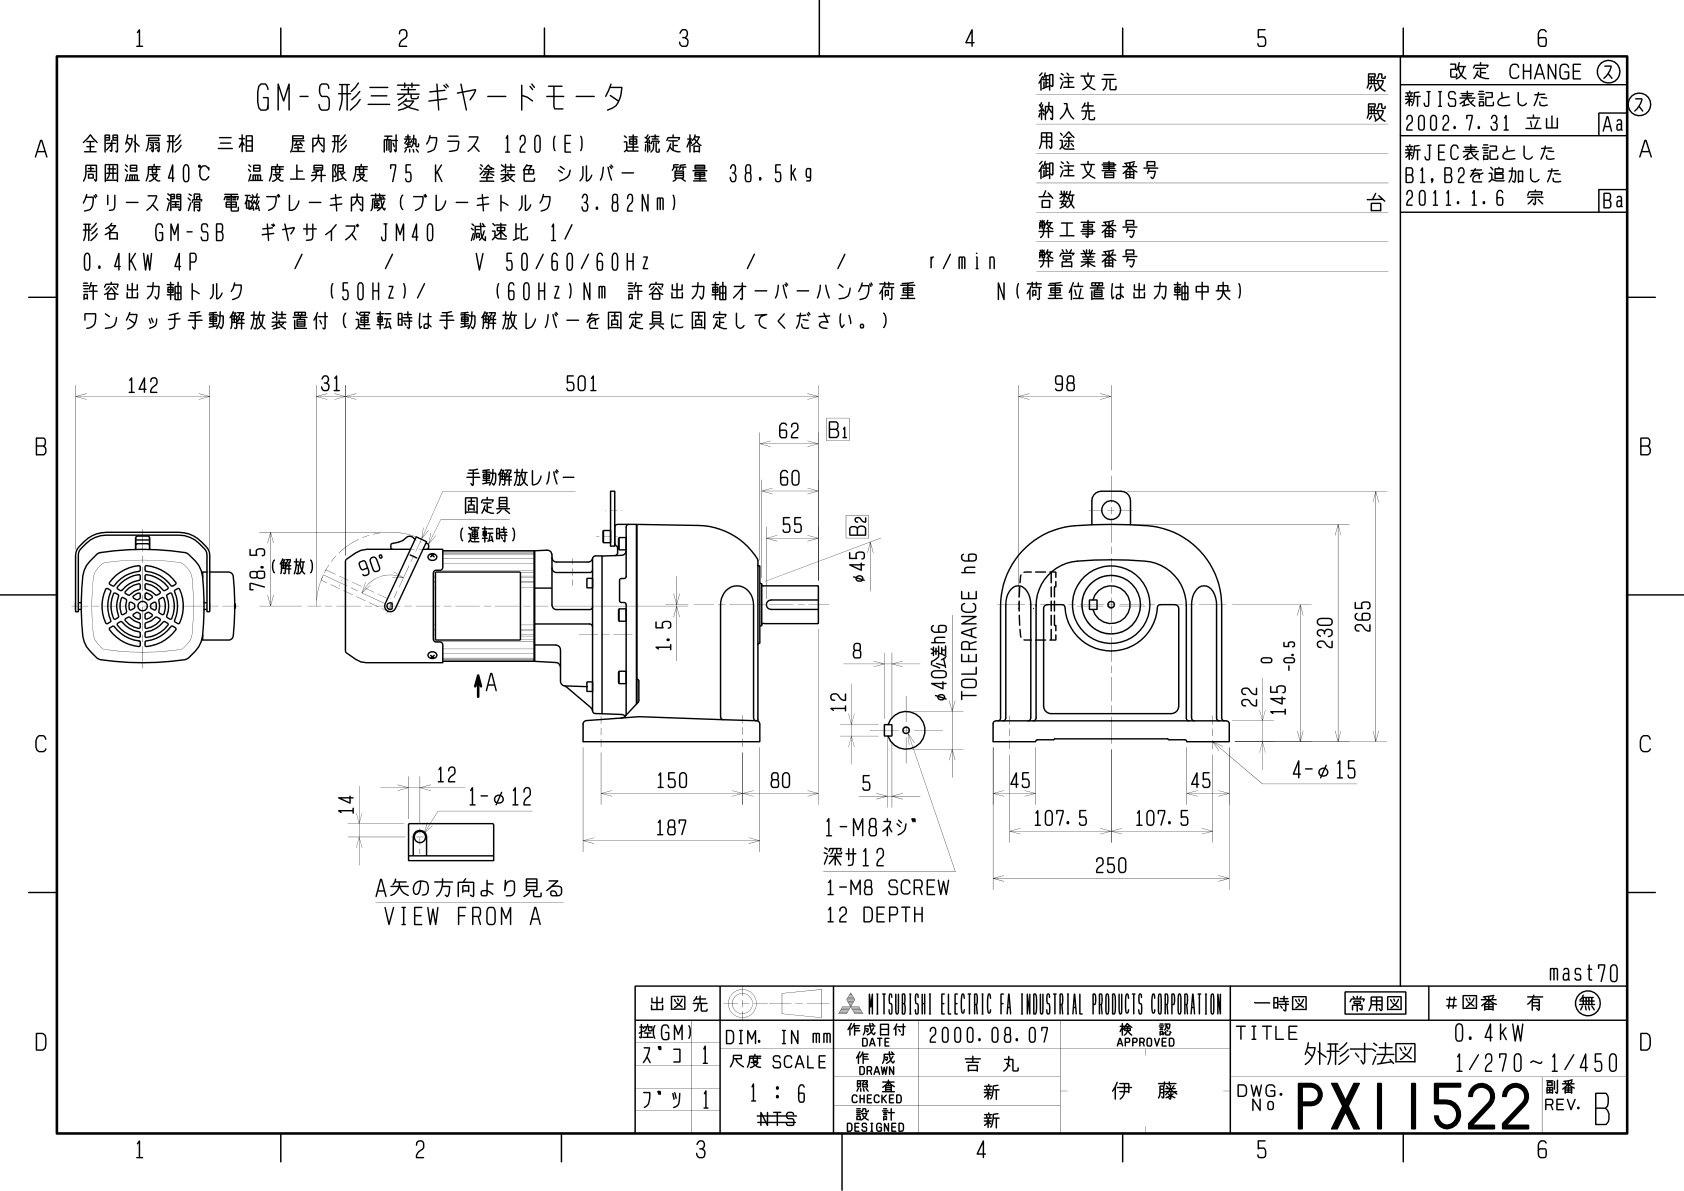GM_S_手動ブレーキ＿三相_脚: (3, 6, 1684, 1185)
